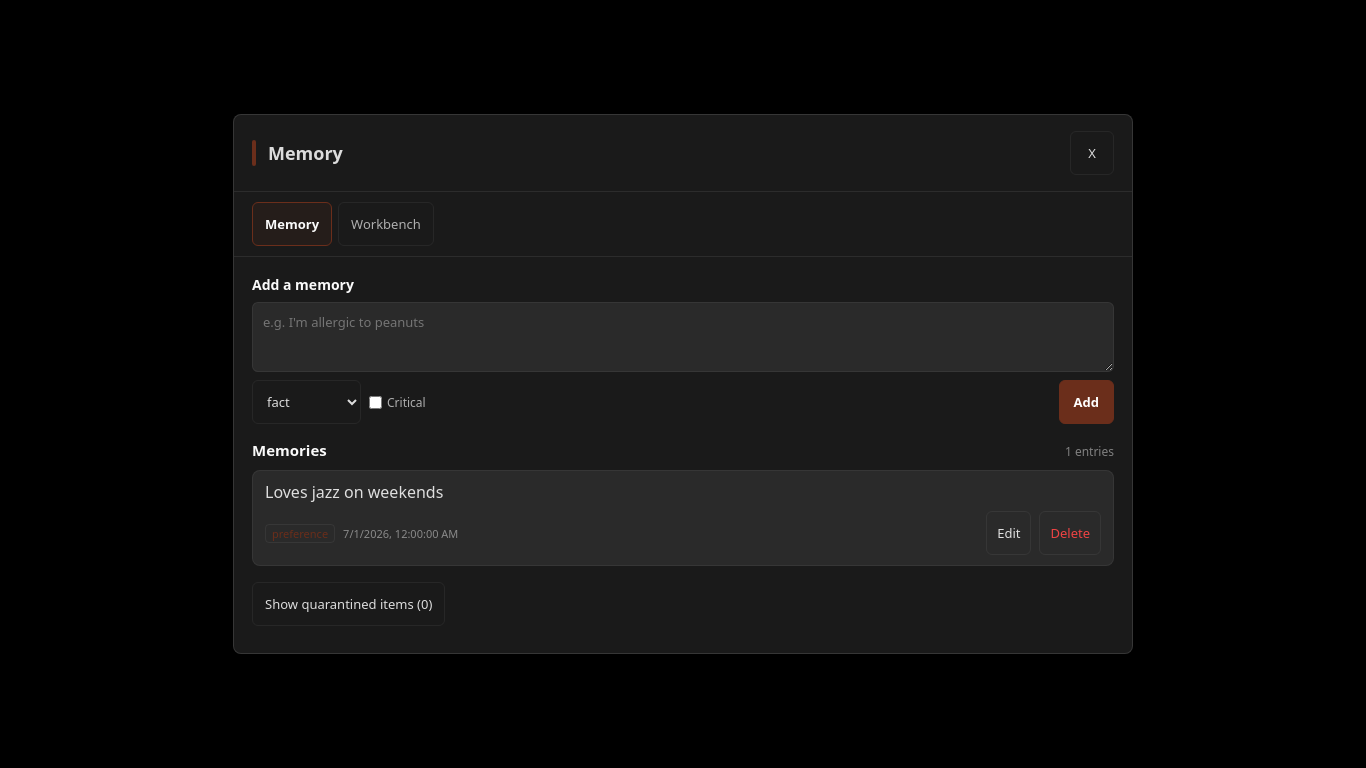
MemoryPanel -- cloud SPA Memory tab reads/writes /v1/memories (#1182) › deletes a memory via DELETE /v1/memories/{id} and it disappears from the list
Expected: the text "Loves jazz on weekends" is shown, [265, 481, 443, 503]
Step 1. Click the button "Delete" → point(1070, 533), box [1040, 511, 1101, 555]
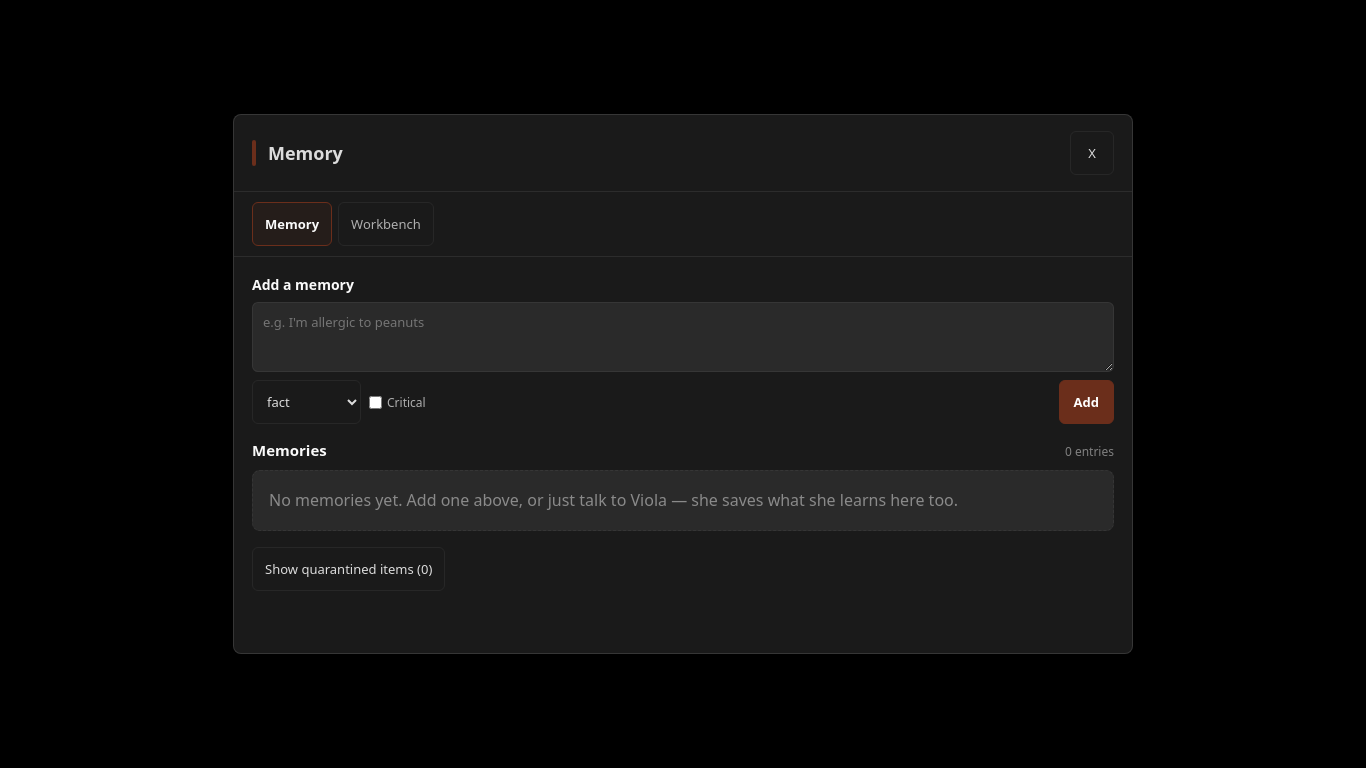
Now the text "Loves jazz on weekends" is gone
